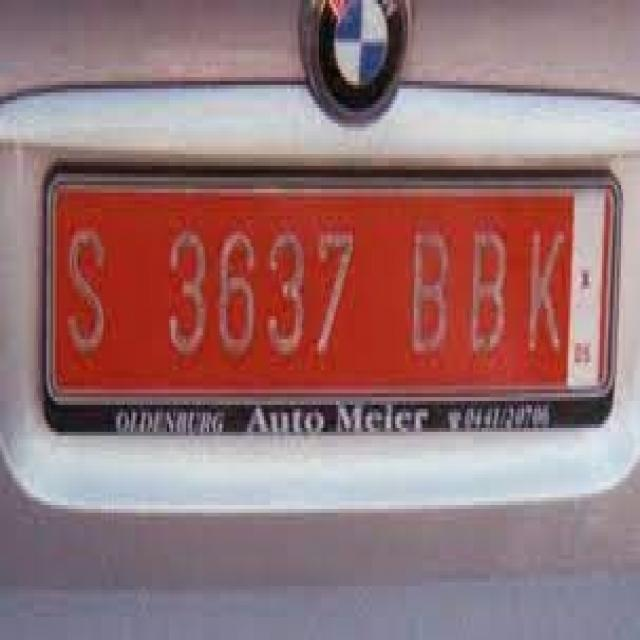LicensePlate: (32, 150, 630, 450), (629, 193, 640, 448)
